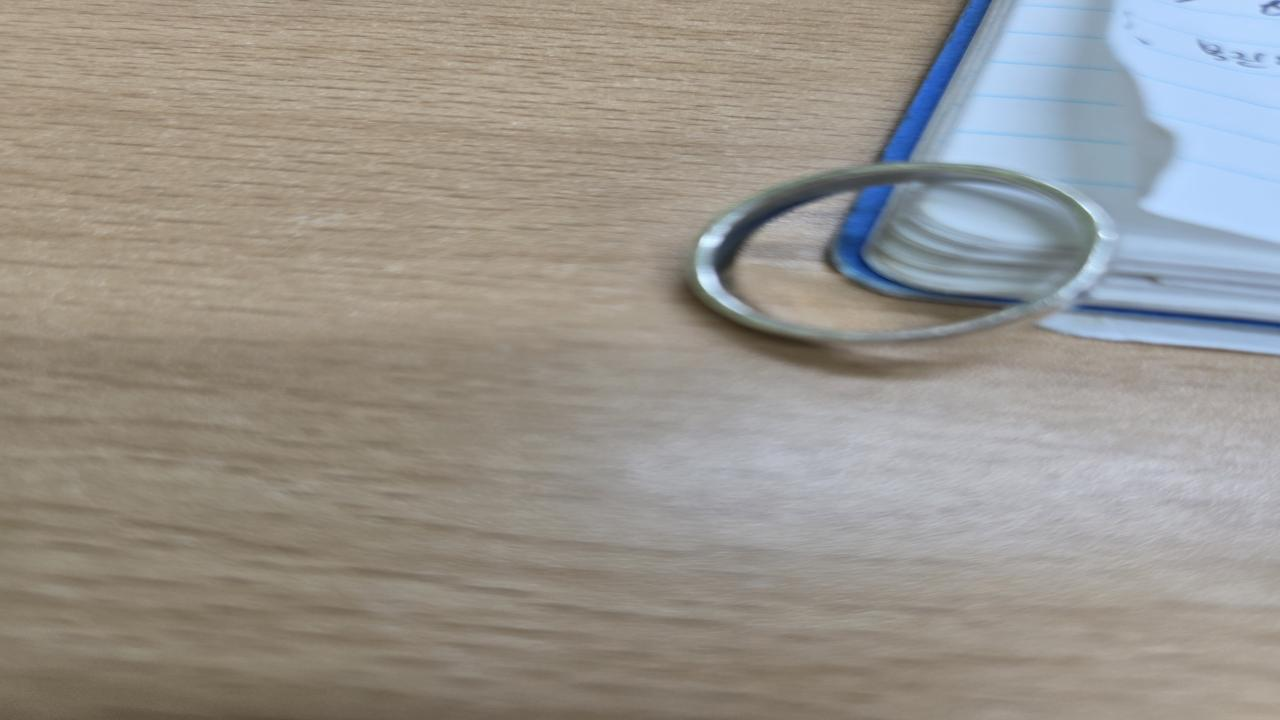ring: (686, 162, 1124, 346)
